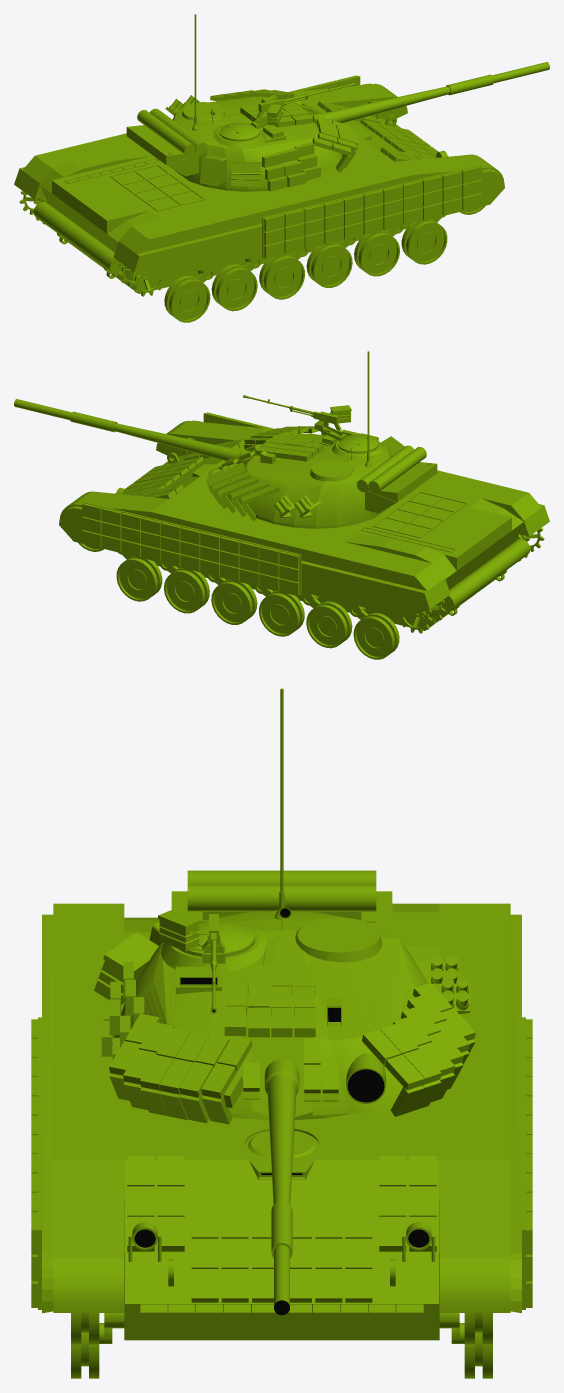
File: bashtat – копія.dae
3 views of the same model, one above another, from view 1: azimuth 30°, elevation 25°; view 2: azimuth 150°, elevation 25°; view 3: azimuth 270°, elevation 25° (orthographic). The views are drawn at different scales.
Visible parts, largest first — view 1: SketchUp, SketchUp_587, SketchUp_620, SketchUp_530; view 2: SketchUp, SketchUp_587, SketchUp_620, SketchUp_454; view 3: SketchUp, SketchUp_587, SketchUp_620.
Boxes of the visible parts, x1,y1,x2,y2 form: SketchUp: (14, 75, 504, 322); SketchUp_587: (126, 14, 357, 191); SketchUp_620: (321, 62, 549, 122); SketchUp_530: (118, 263, 166, 296); SketchUp: (59, 412, 549, 659); SketchUp_587: (206, 351, 437, 528); SketchUp_620: (14, 399, 242, 464); SketchUp_454: (397, 600, 445, 633); SketchUp: (31, 891, 532, 1378); SketchUp_587: (94, 688, 475, 1124); SketchUp_620: (267, 1074, 296, 1315).
Size of the model in its own units: 28.81 by 13.15 by 14.76.
